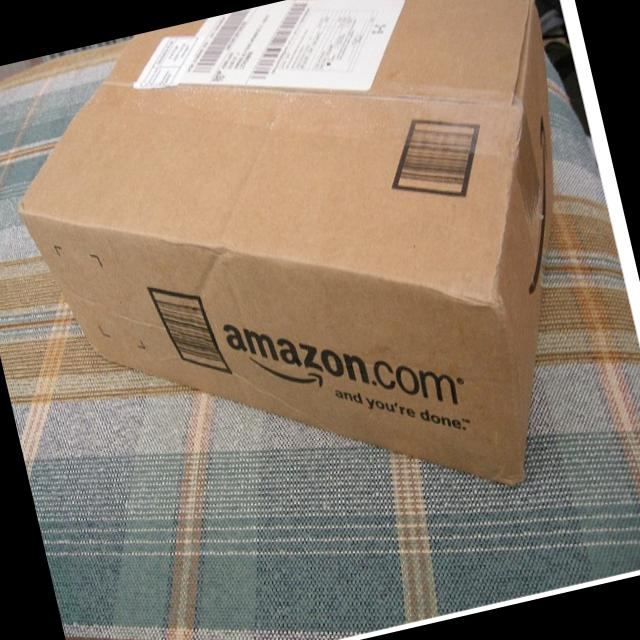box: (21, 1, 553, 484)
